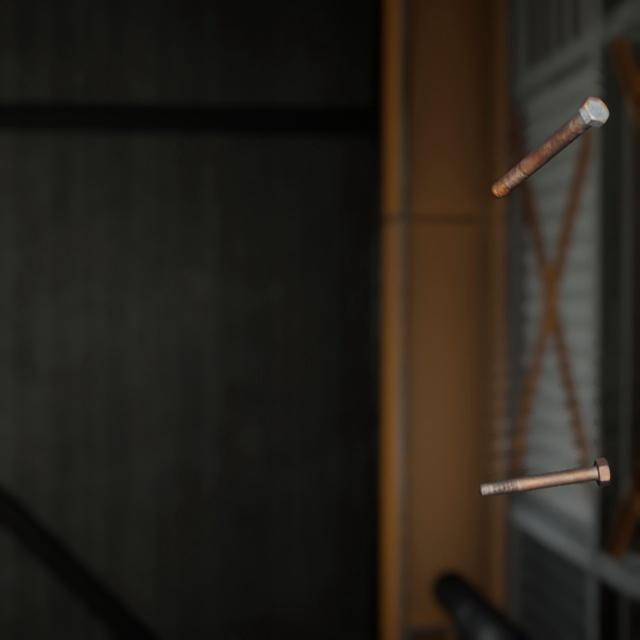bolt: (486, 78, 613, 189), (474, 432, 615, 480)
